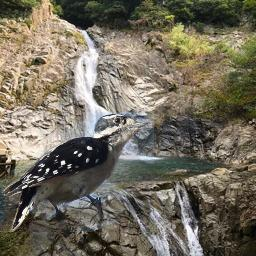Woodpecker: (0, 112, 154, 232)
